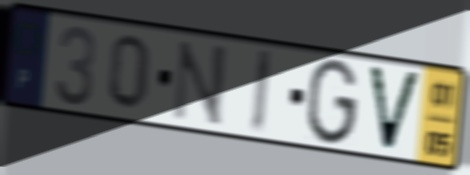0: (104, 32, 155, 113)
3: (53, 23, 98, 108)
G: (303, 56, 362, 148)
I: (248, 46, 275, 137)
N: (169, 38, 230, 130)
V: (365, 62, 424, 156)
